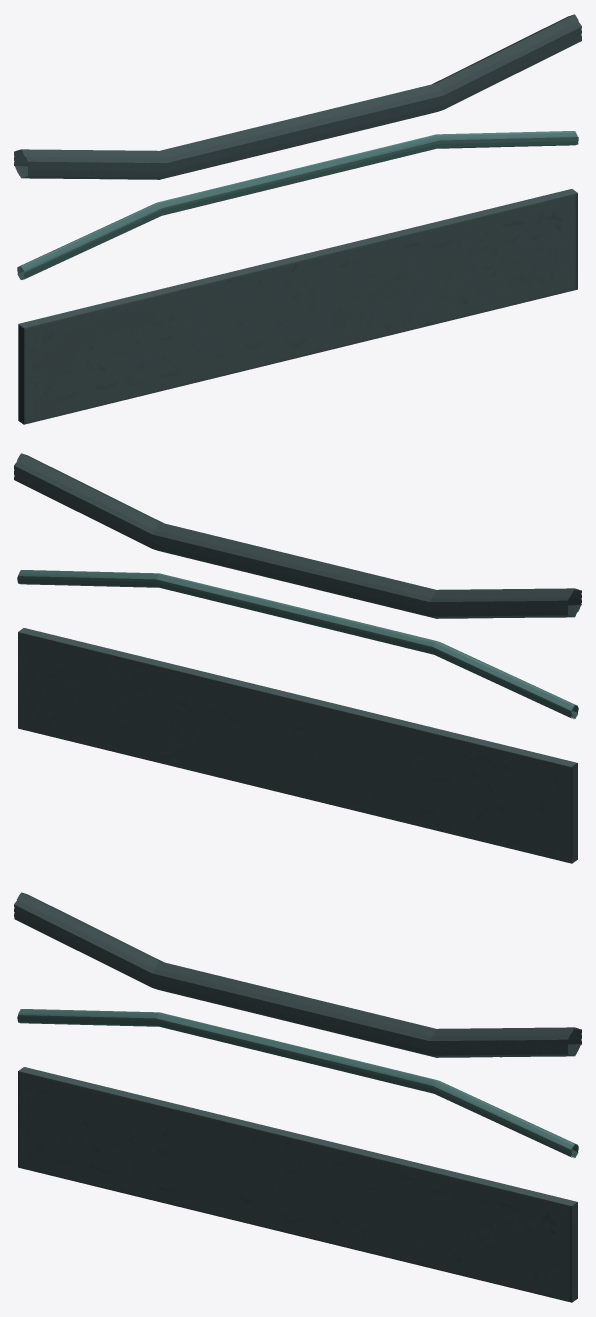
File: MK_Ship_FenceBody.fbx
3 views of the same model, one above another, from view 1: azimuth 30°, elevation 25°; view 2: azimuth 150°, elevation 25°; view 3: azimuth 330°, elevation 25° (orthographic).
Parts seen in each view (by area): view 1: MK_Ship_FenceBody; view 2: MK_Ship_FenceBody; view 3: MK_Ship_FenceBody.
Part boxes in pixels (bbox=[...]): MK_Ship_FenceBody: bbox=[14, 14, 581, 424]; MK_Ship_FenceBody: bbox=[14, 453, 581, 863]; MK_Ship_FenceBody: bbox=[14, 892, 581, 1302].
Bounding box in the file's own units: 0.5 × 0.2356 × 0.0217.
1 material, 1 textured.
